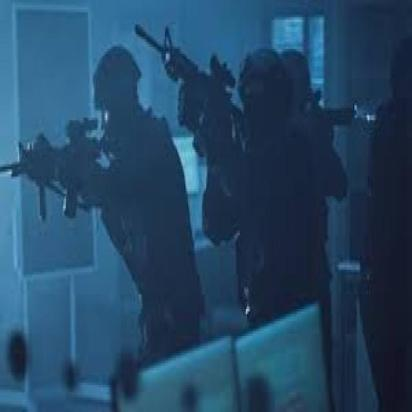Gun: (135, 18, 245, 166), (0, 114, 115, 227)
